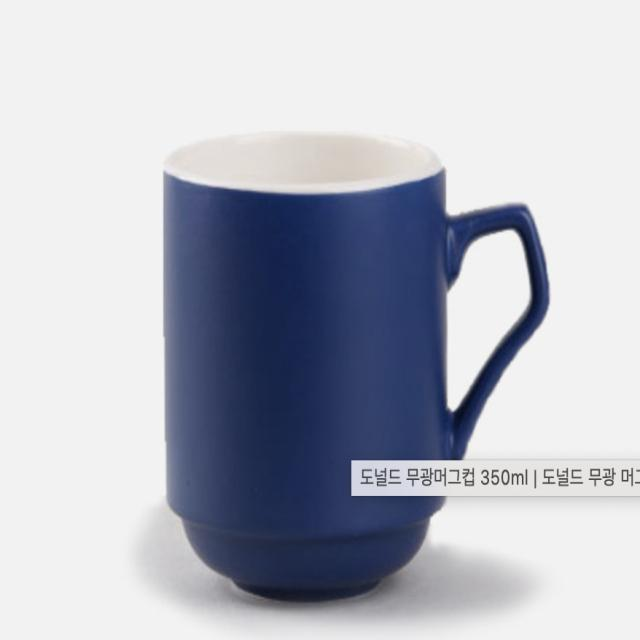recyclable: (133, 117, 552, 618)
